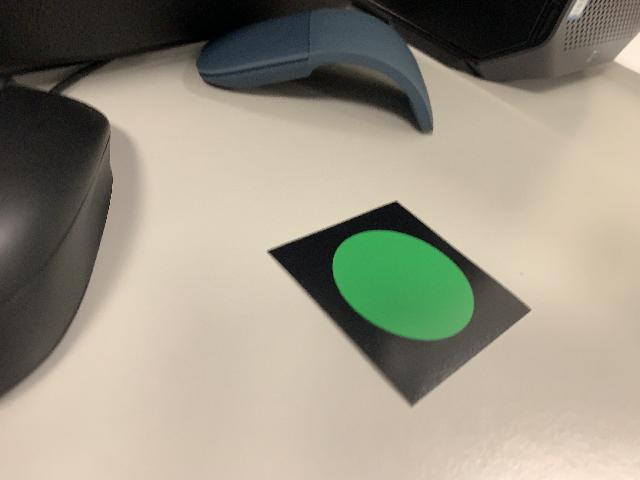go: (262, 196, 535, 413)
